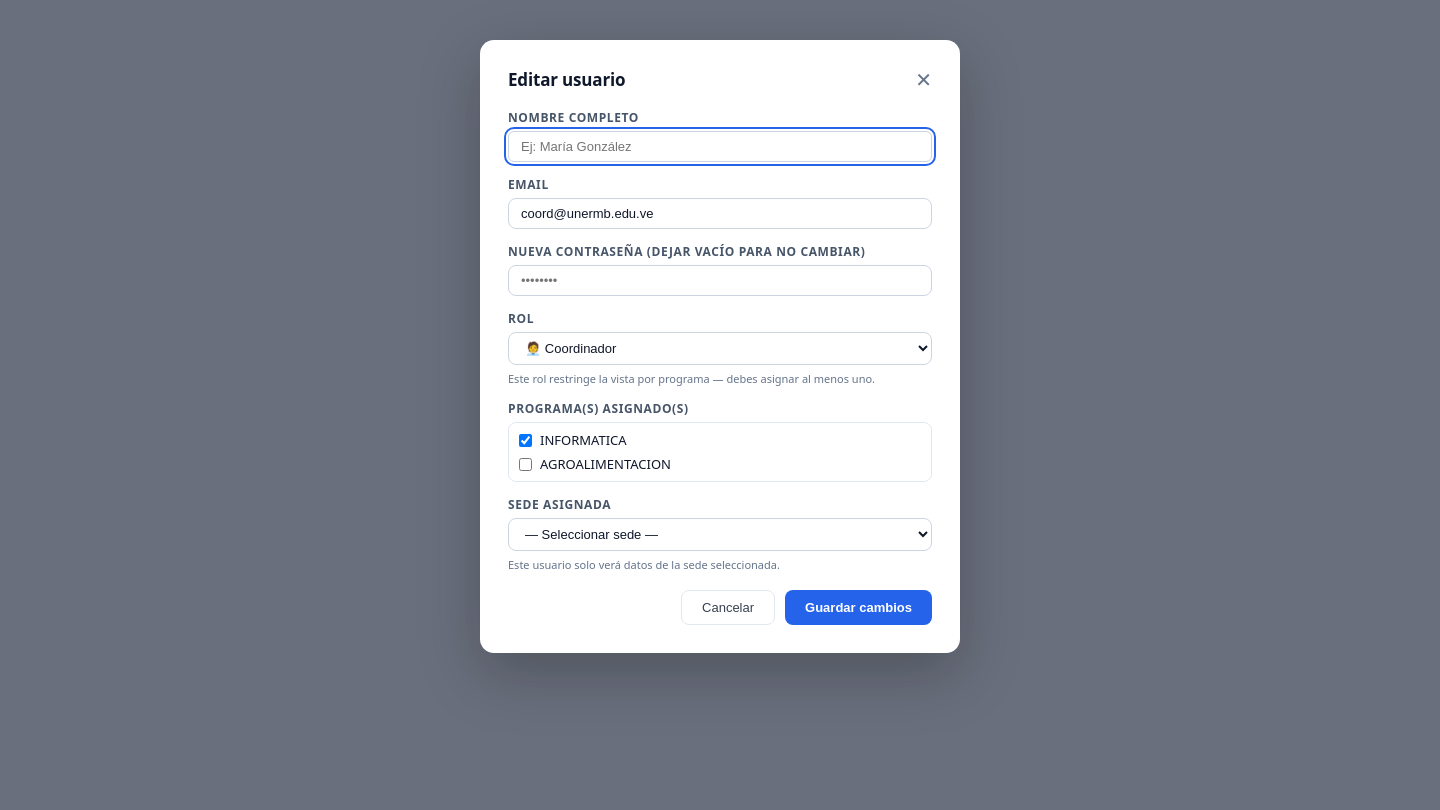
ModalUsuario — UX-43: validación por campo, todos los errores de una vez › con nombre Y sede vacíos a la vez, muestra AMBOS mensajes en el mismo intento de guardar
The width and height of the screenshot is (1440, 810).
Click the button "Guardar cambios" at x=859, y=608, box x1=785 y1=590 x2=932 y2=625
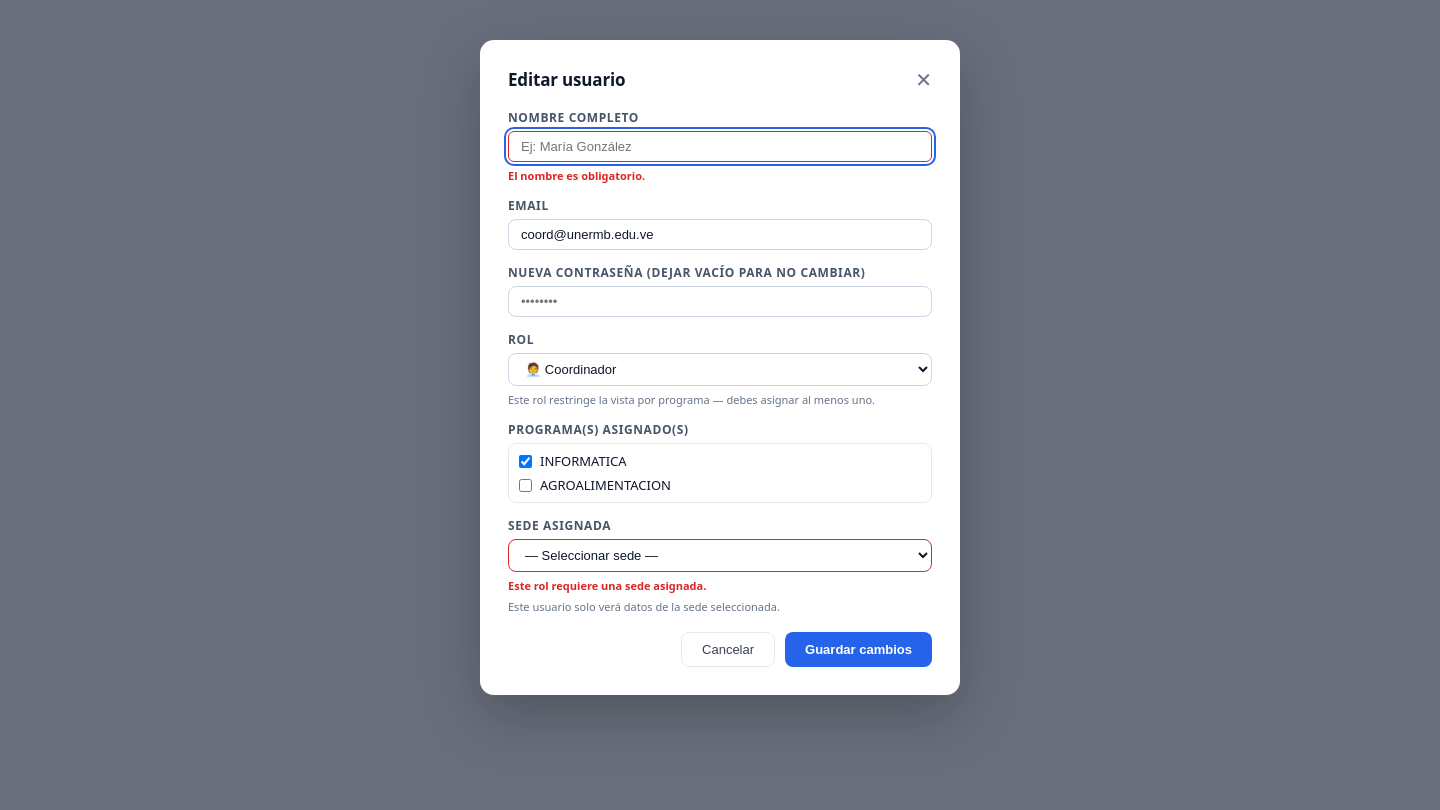
Now the text "El nombre es obligatorio." is shown, box x1=508 y1=168 x2=645 y2=183
Now the text "Este rol requiere una sede asignada." is shown, box x1=508 y1=578 x2=706 y2=593
